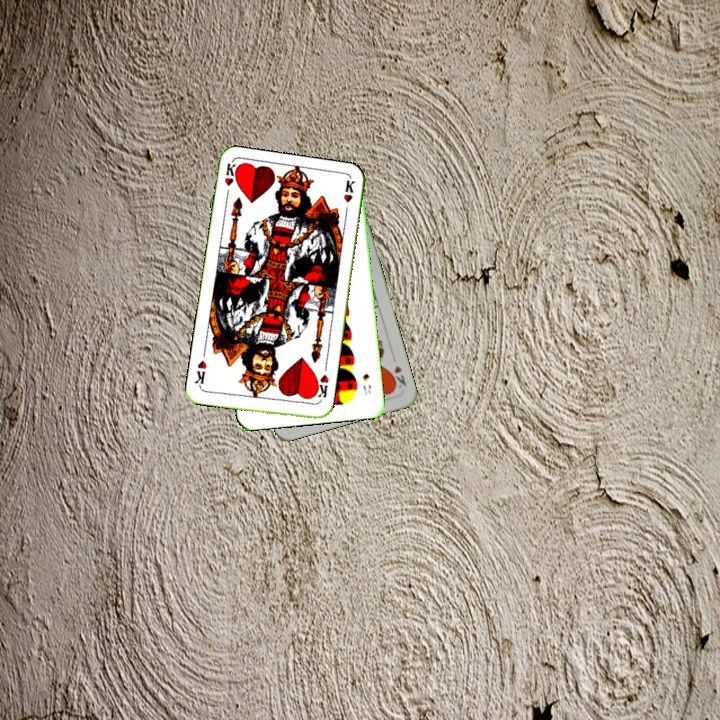HK: (220, 160, 241, 201), (310, 371, 331, 405), (386, 361, 409, 391)
S8: (359, 369, 374, 397)
